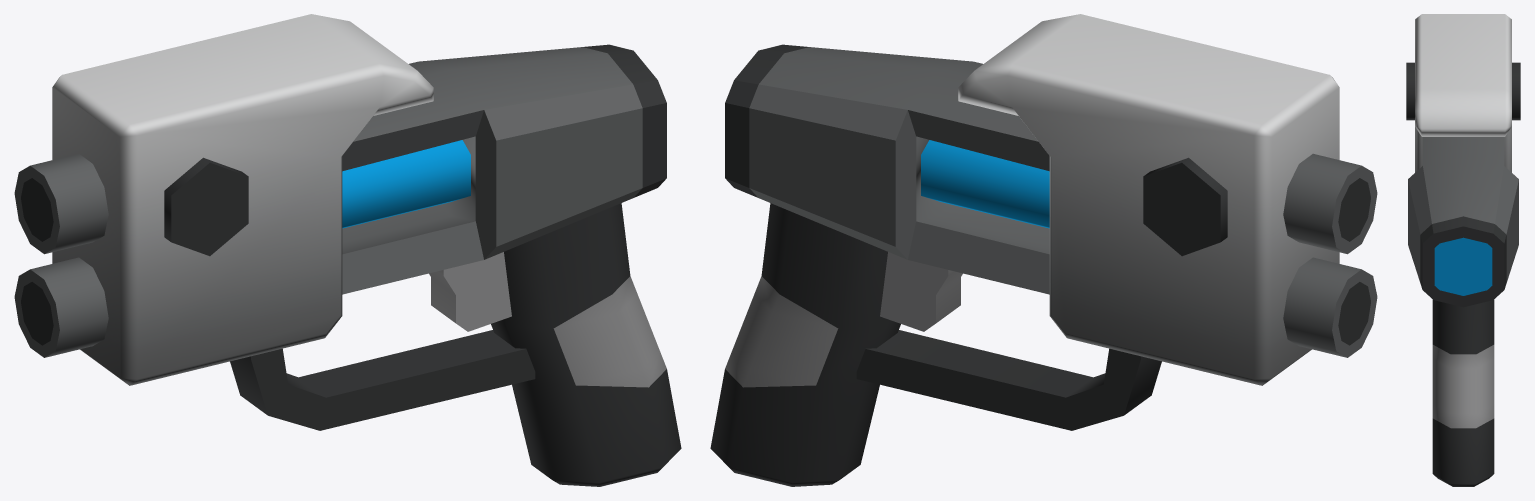
The model's file is Gun_003.fbx.
The picture shows the model from 3 angles, left to right: view 1: azimuth 30°, elevation 25°; view 2: azimuth 150°, elevation 25°; view 3: azimuth 270°, elevation 25°; orthographic projection. The views are drawn at different scales.
Parts seen in each view (by area): view 1: Gun_003; view 2: Gun_003; view 3: Gun_003.
Part boxes in pixels (left/top/right/bottom): Gun_003: left=14, top=14, right=681, bottom=486; Gun_003: left=710, top=14, right=1377, bottom=486; Gun_003: left=1406, top=14, right=1520, bottom=486.
Size of the model in its own units: 31.7 by 8.02 by 23.42.
